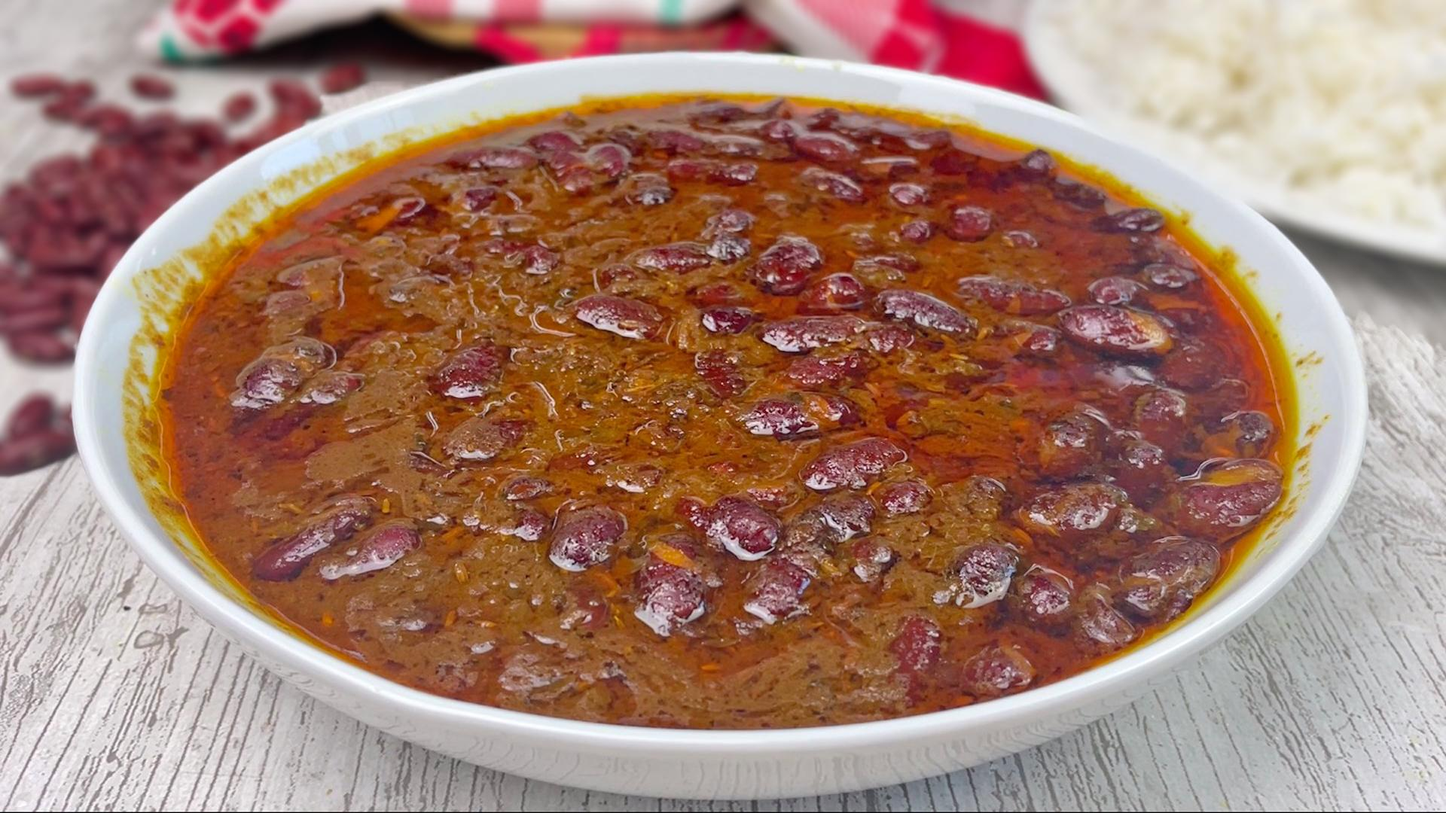rajma: (256, 124, 1252, 717)
